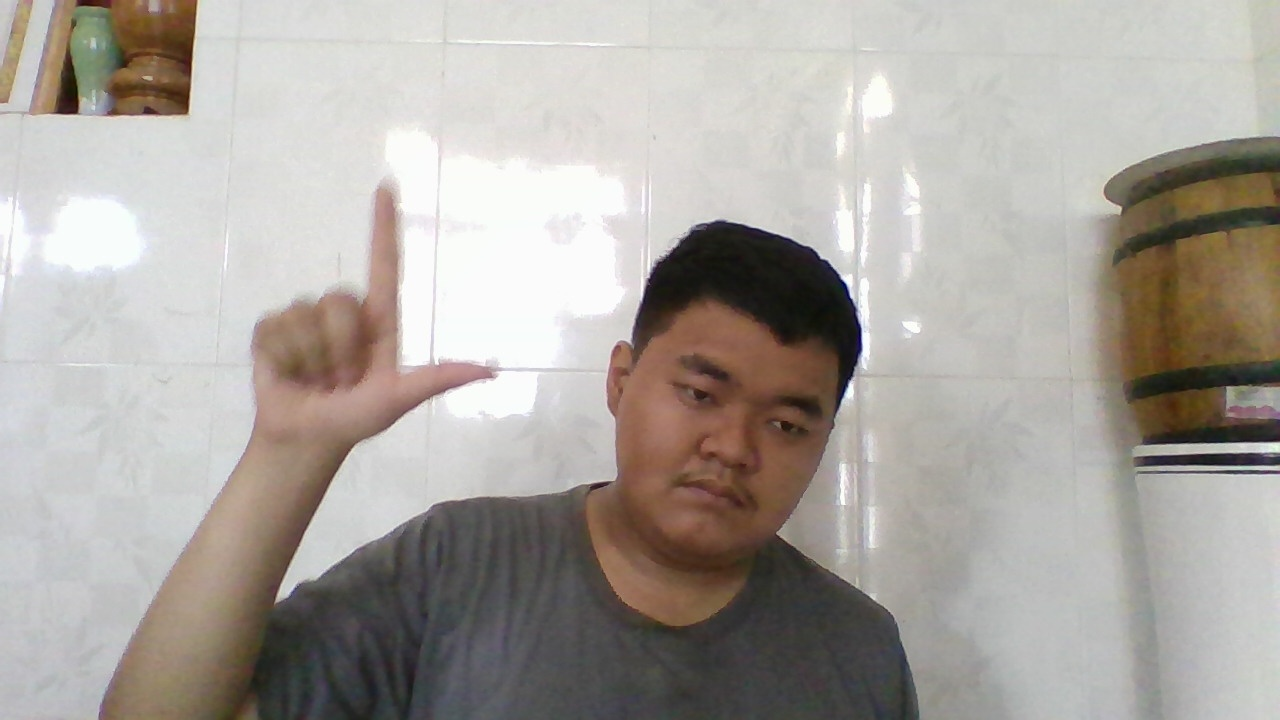L: (256, 175, 496, 451)
